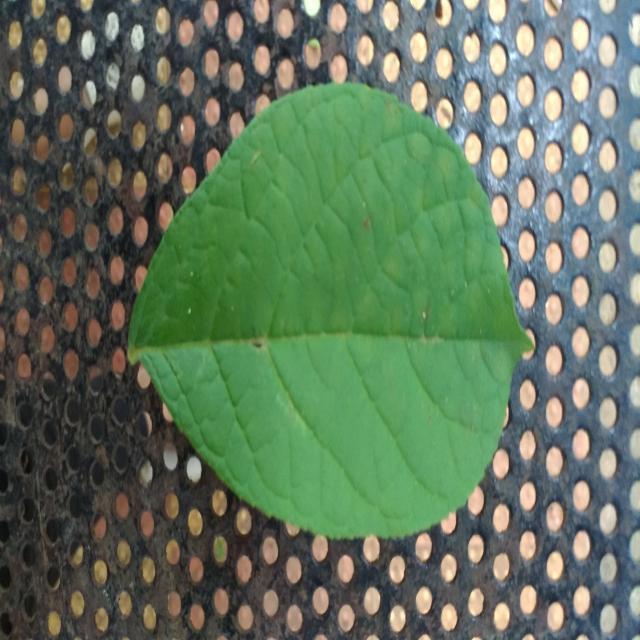padri: (129, 82, 531, 538)
